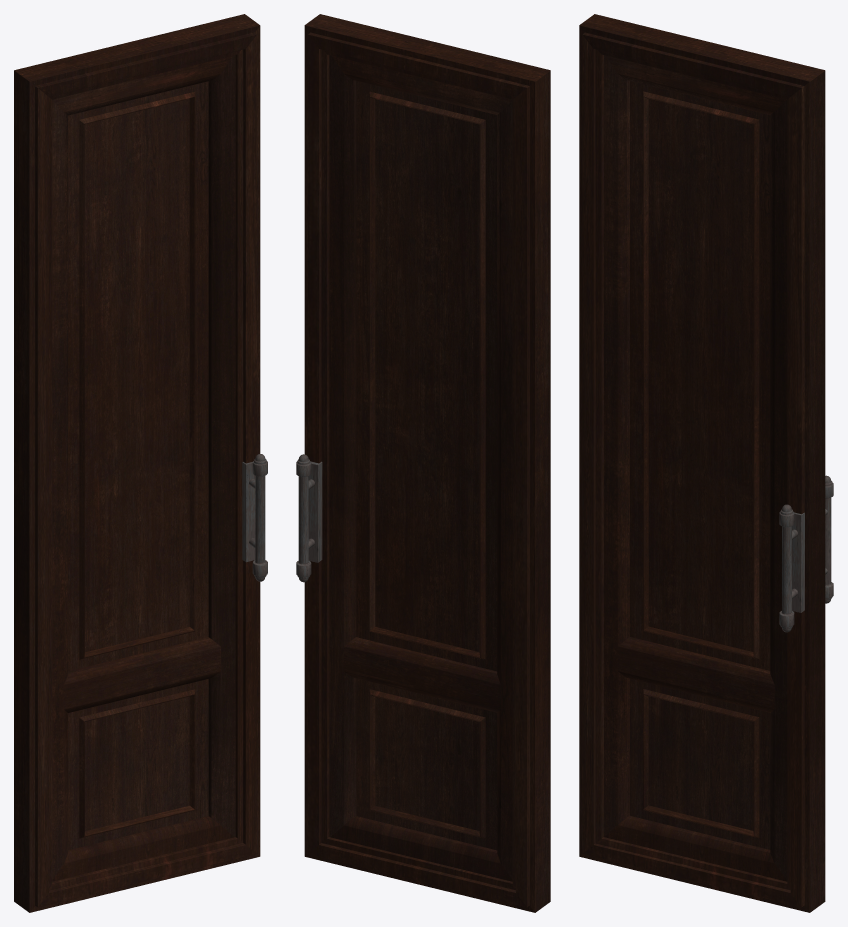
Rendered from SK3 DOOR A.fbx.
The picture shows the model from 3 angles, left to right: view 1: azimuth 30°, elevation 25°; view 2: azimuth 150°, elevation 25°; view 3: azimuth 330°, elevation 25°; orthographic projection.
Parts seen in each view (by area): view 1: SK3 DOOR A; view 2: SK3 DOOR A; view 3: SK3 DOOR A.
Boxes of the visible parts, left/top/right/bottom form: SK3 DOOR A: left=14, top=14, right=267, bottom=912; SK3 DOOR A: left=296, top=14, right=550, bottom=912; SK3 DOOR A: left=579, top=14, right=833, bottom=912.
Bounding box in the file's own units: 75.18 × 259 × 26.49.
